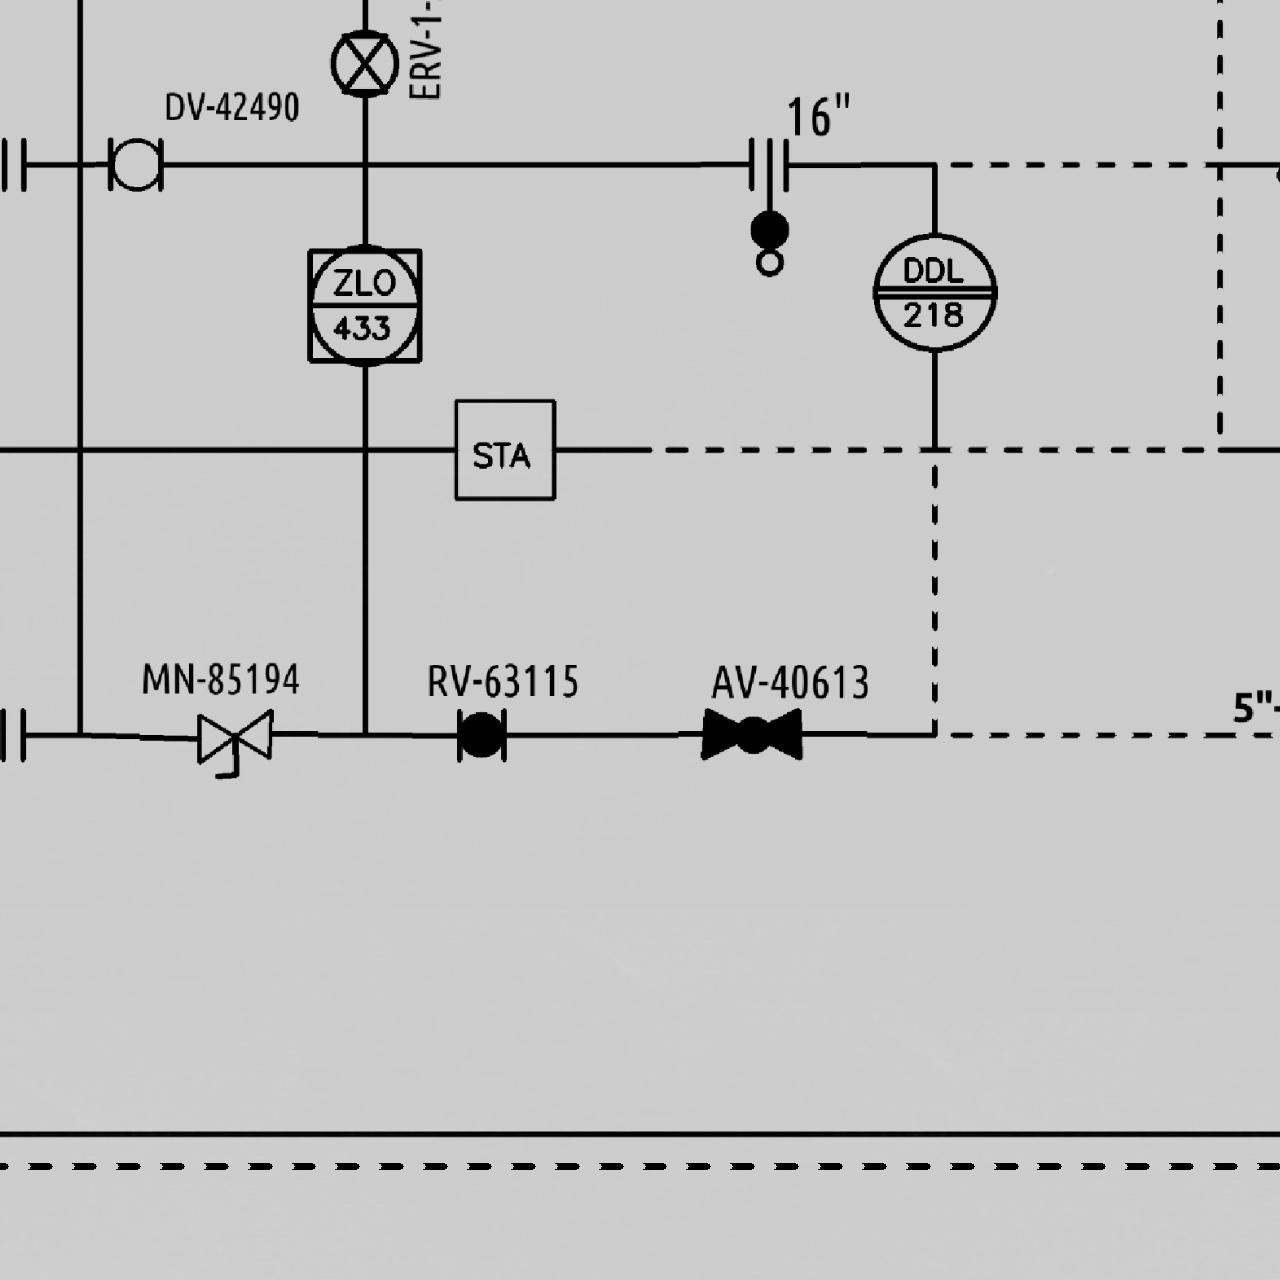Control-Panel: (864, 225, 996, 358)
